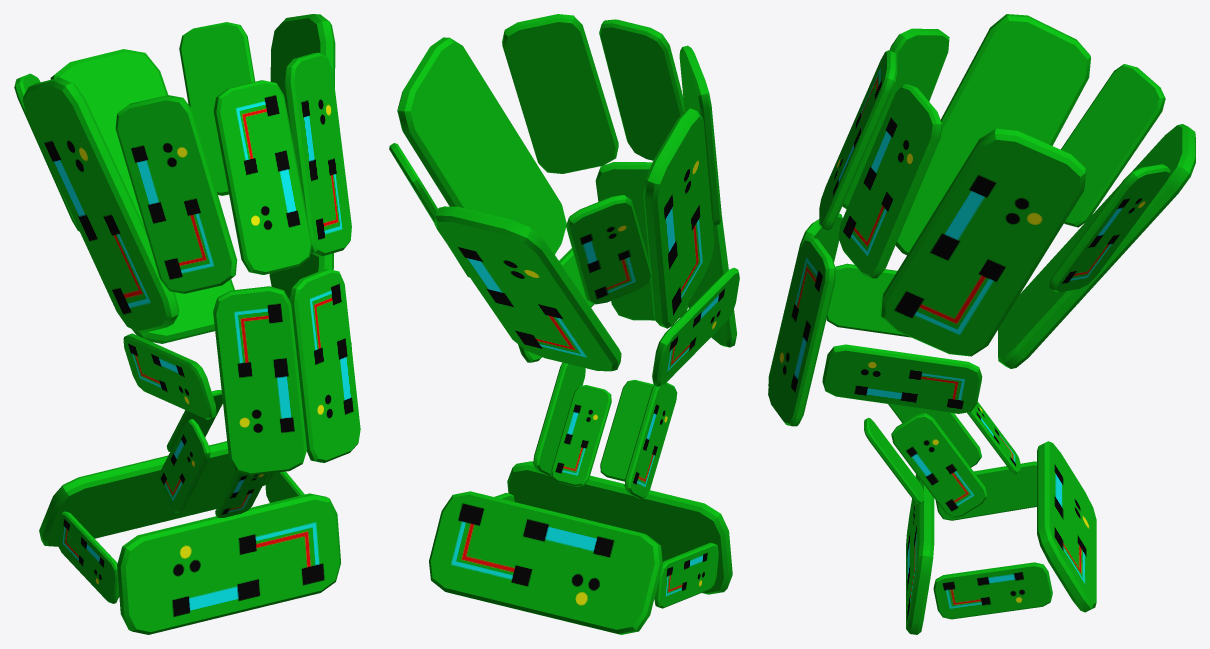
The model's file is NefertitiSculpture.fbx.
The picture shows the model from 3 angles, left to right: view 1: azimuth 30°, elevation 25°; view 2: azimuth 150°, elevation 25°; view 3: azimuth 270°, elevation 25°; orthographic projection.
Parts seen in each view (by area): view 1: pCube270; view 2: pCube270; view 3: pCube270.
Part boxes in pixels (x1=…): pCube270: x1=14, y1=14, x2=360, y2=634; pCube270: x1=389, y1=14, x2=739, y2=634; pCube270: x1=768, y1=14, x2=1195, y2=634.
Size of the model in its own units: 66.21 by 128 by 92.33.
